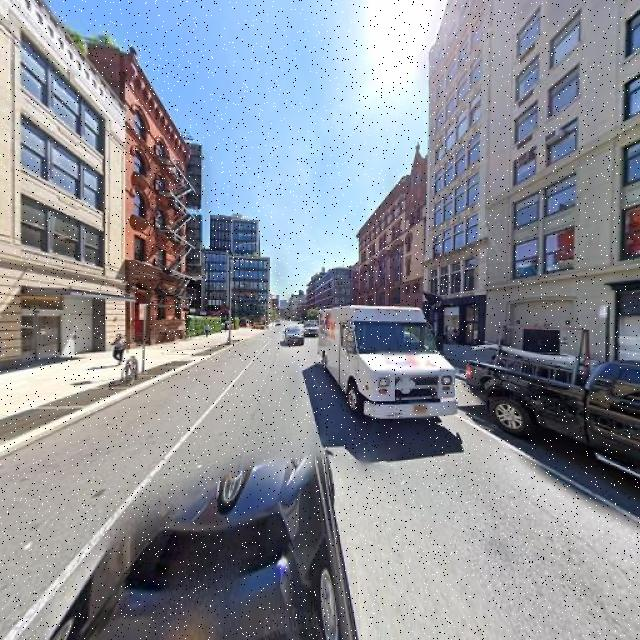Building: (428, 1, 640, 372), (1, 1, 122, 372), (127, 48, 185, 349), (359, 154, 425, 339)
